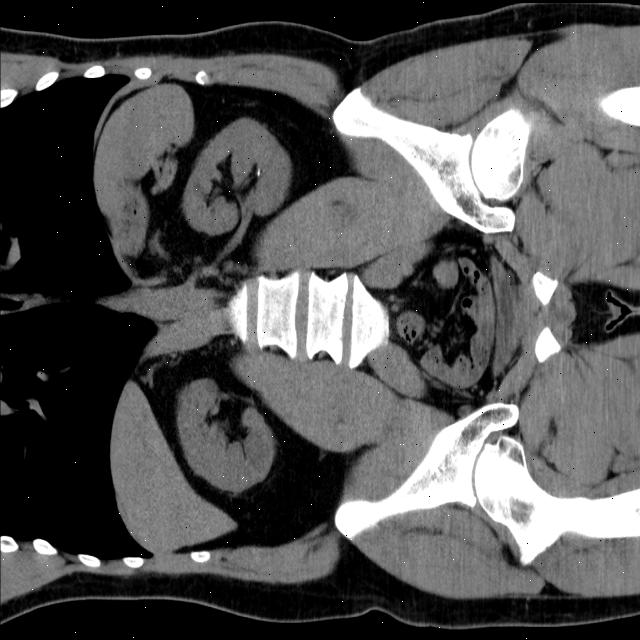kidneystone: (254, 163, 261, 177)
